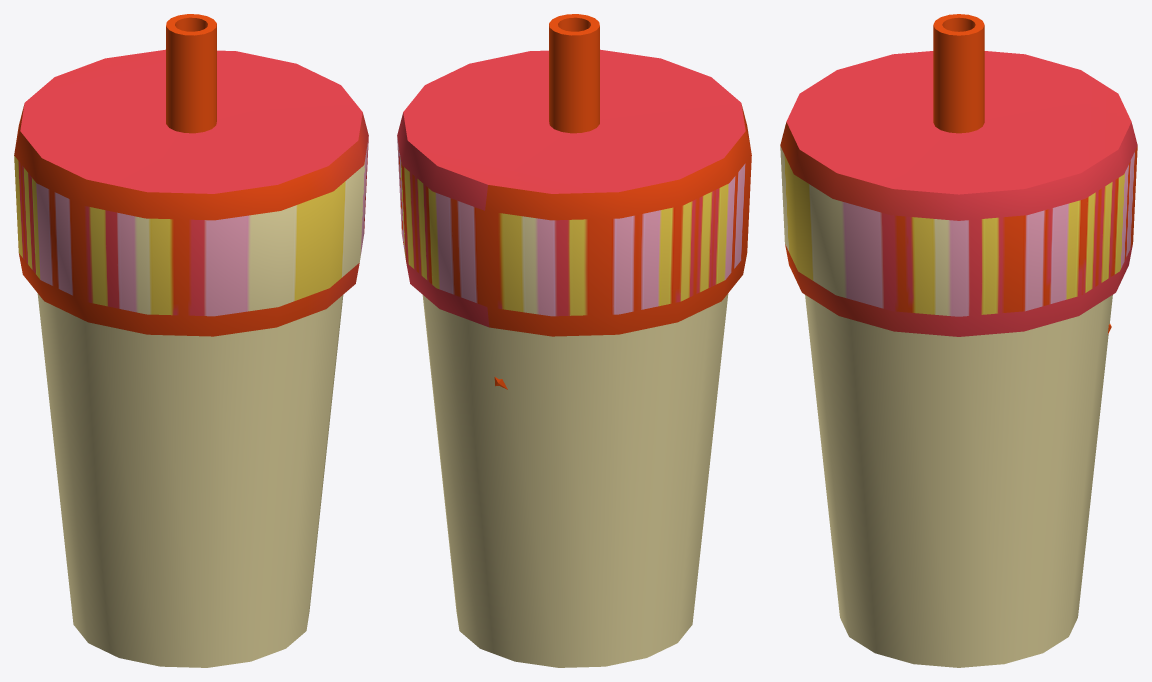
File: M_bubbleTea_red.fbx
The picture shows the model from 3 angles, left to right: view 1: azimuth 30°, elevation 25°; view 2: azimuth 150°, elevation 25°; view 3: azimuth 270°, elevation 25°; orthographic projection.
Parts seen in each view (by area): view 1: Cylinder.005; view 2: Cylinder.005; view 3: Cylinder.005.
Boxes of the visible parts, bbox=[...] form: Cylinder.005: bbox=[14, 14, 368, 667]; Cylinder.005: bbox=[397, 14, 751, 667]; Cylinder.005: bbox=[780, 14, 1137, 667].
Bounding box in the file's own units: 38.69 × 70.8 × 38.69.
